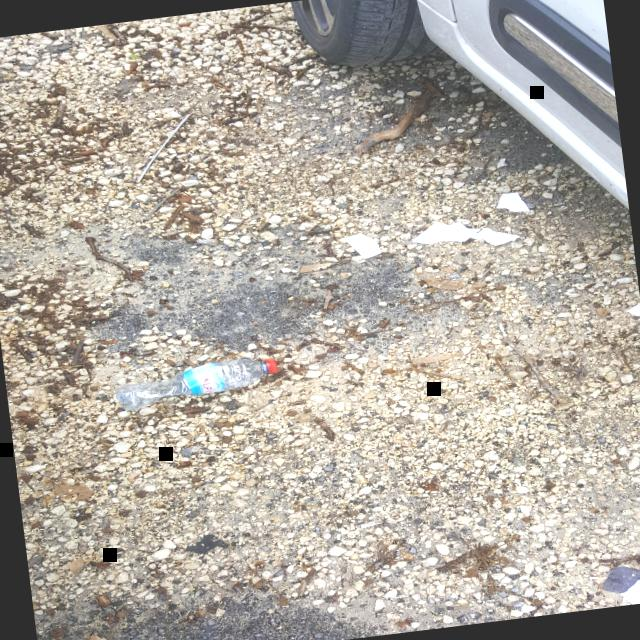Clear plastic bottle: (116, 358, 278, 411)
Normal paper: (411, 221, 520, 245), (342, 232, 382, 258), (496, 192, 529, 212), (627, 302, 640, 316)
Plastic bottle cap: (267, 358, 277, 373)
Plastic straw: (136, 113, 190, 182)
Unlabeled litter: (619, 579, 640, 604)
